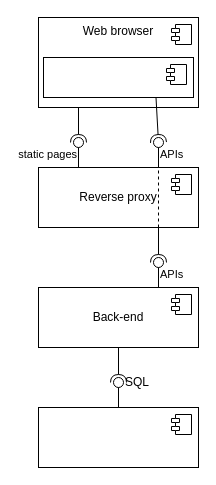
The diagram is 216 pixels wide and 485 high, and some of its shapes have lost their labels. Here are the shapes that lost their labels. From the top down, the centre of each, then its label:
the point at 118,77: Web application
the point at 118,437: Database
